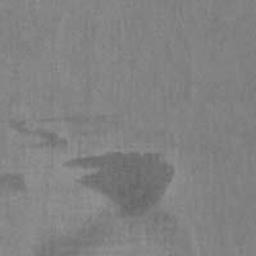Oil spot: (8, 113, 197, 256), (0, 172, 29, 198), (0, 0, 23, 4)
